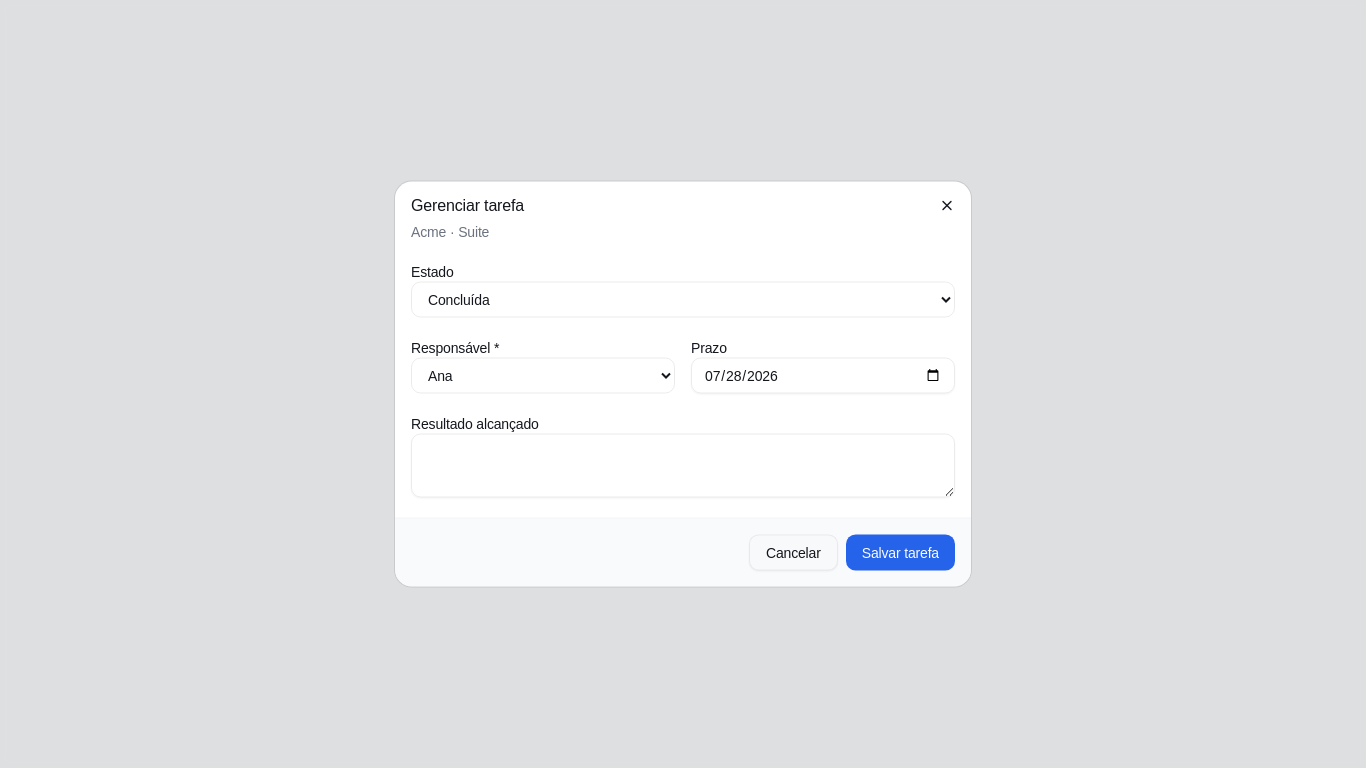
Test: ActionTaskDialog › exige resultado antes de concluir uma tarefa
This screenshot has width=1366, height=768.
Click the button "Salvar tarefa": click(900, 552) [846,534,955,570]
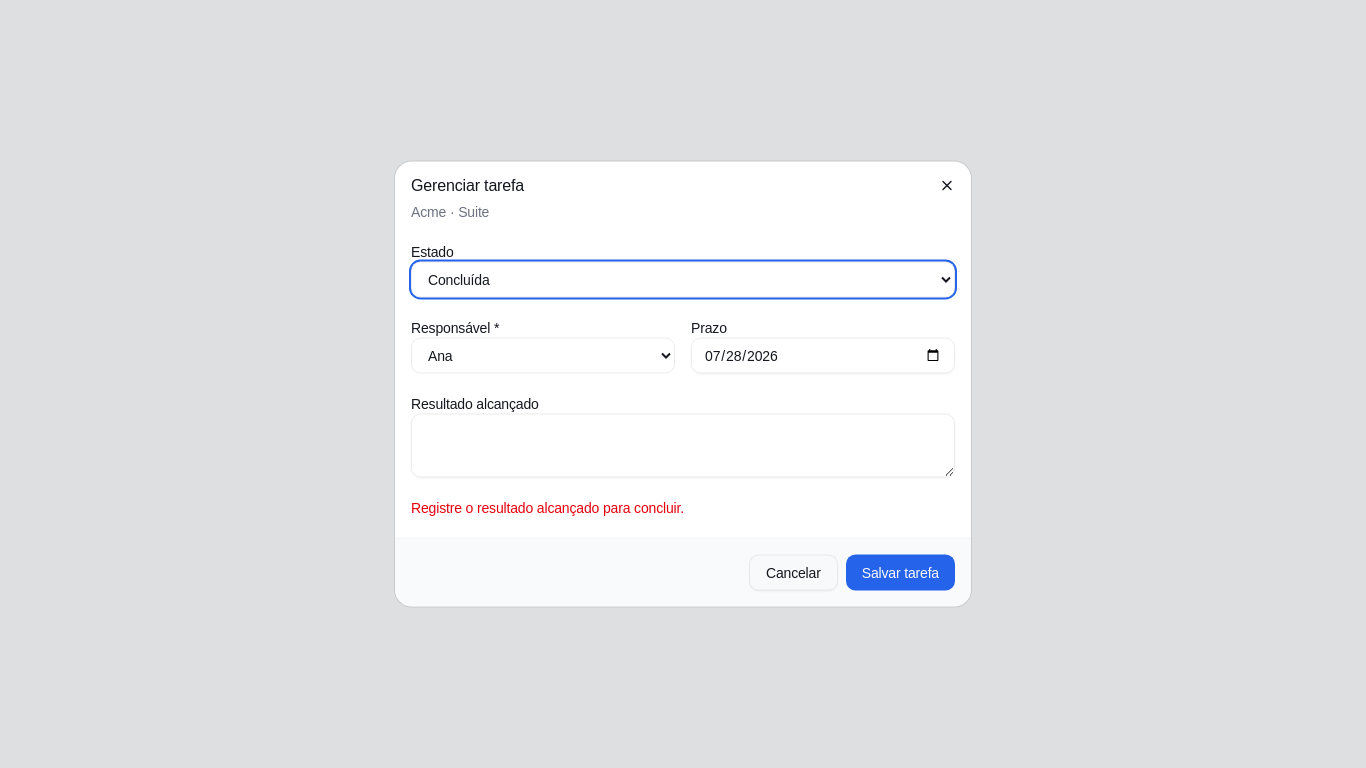
expect the message shows "resultado alcançado": met, box [411,500,684,516]
